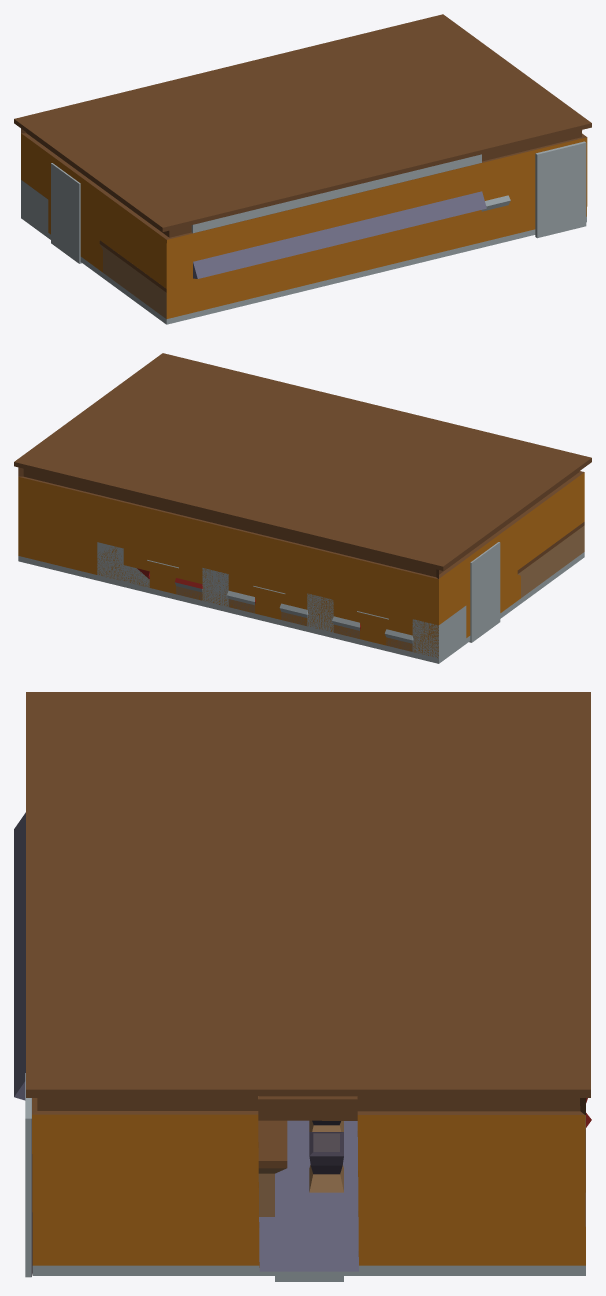
Rendered from foodFloor3.fbx.
3 views of the same model, one above another, from view 1: azimuth 30°, elevation 25°; view 2: azimuth 150°, elevation 25°; view 3: azimuth 270°, elevation 25° (orthographic). The views are drawn at different scales.
Visible parts, largest first — view 1: Cube; view 2: Cube; view 3: Cube.
Part boxes in pixels (left/top/right/bottom): Cube: left=14, top=14, right=591, bottom=324; Cube: left=14, top=353, right=591, bottom=663; Cube: left=14, top=692, right=591, bottom=1281.
Size of the model in its own units: 2057 by 462 by 1254.
